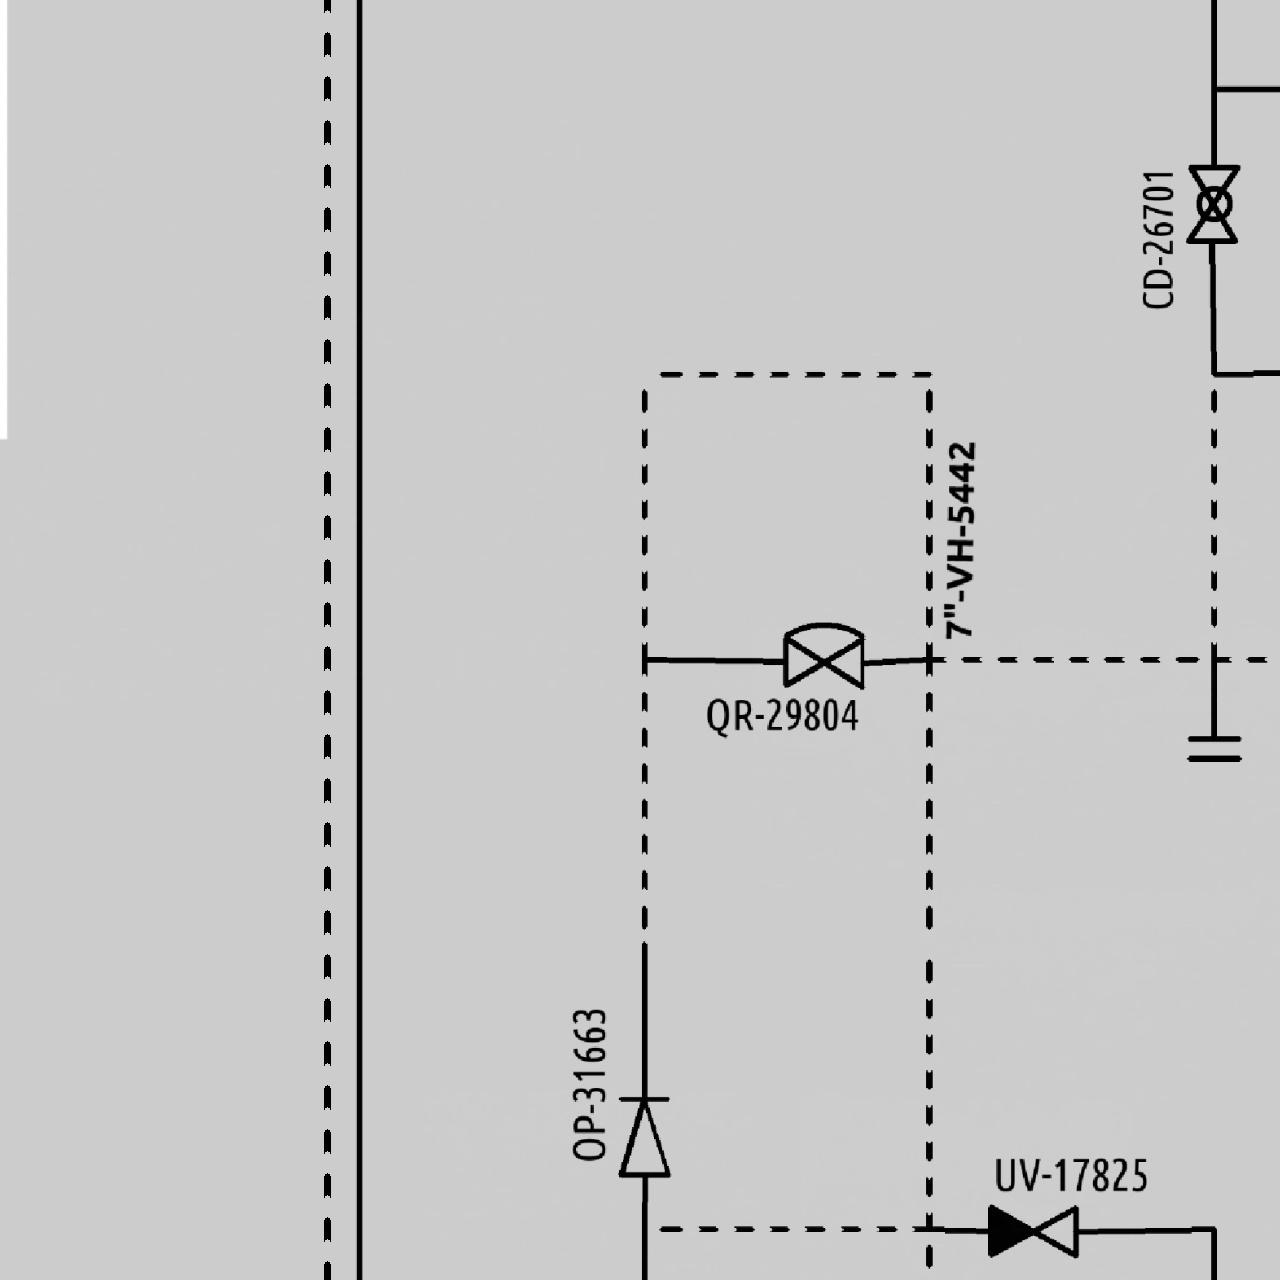Half closed valve: (983, 1200, 1081, 1261)
